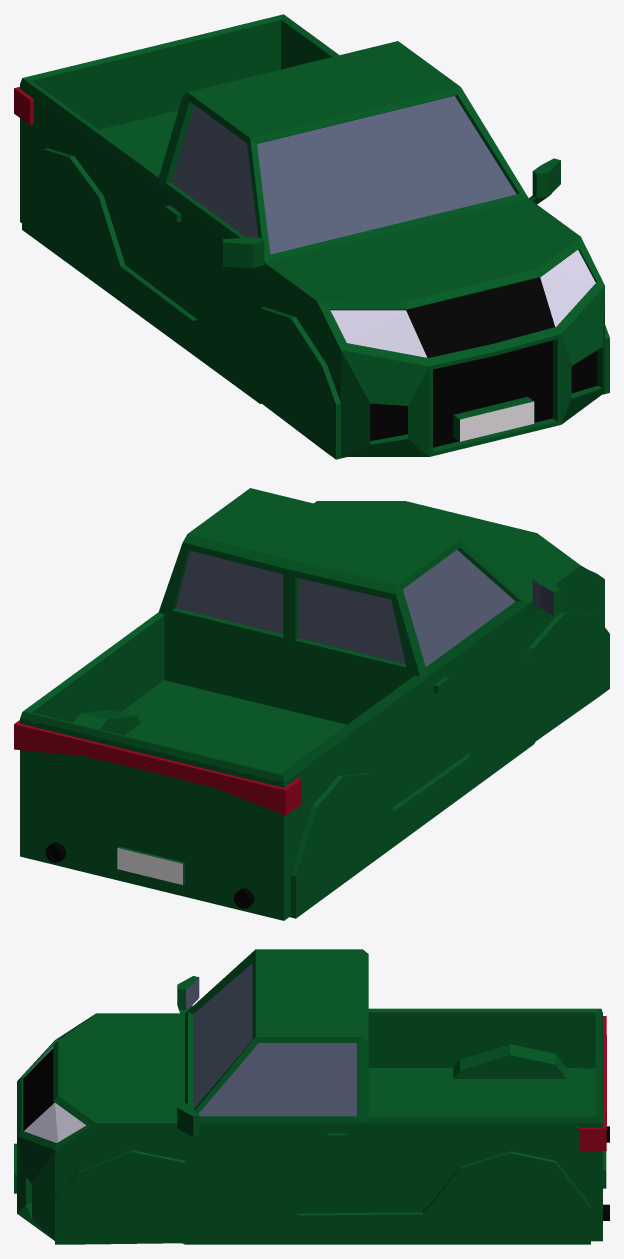
File: Pickup.glb
3 views of the same model, one above another, from view 1: azimuth 30°, elevation 25°; view 2: azimuth 150°, elevation 25°; view 3: azimuth 270°, elevation 25° (orthographic). The views are drawn at different scales.
Visible parts, largest first — view 1: Pickup; view 2: Pickup; view 3: Pickup.
Part boxes in pixels (bbox=[...]): Pickup: bbox=[14, 14, 609, 459]; Pickup: bbox=[14, 488, 609, 920]; Pickup: bbox=[14, 949, 609, 1244].
Bounding box in the file's own units: 281 × 201 × 504.
